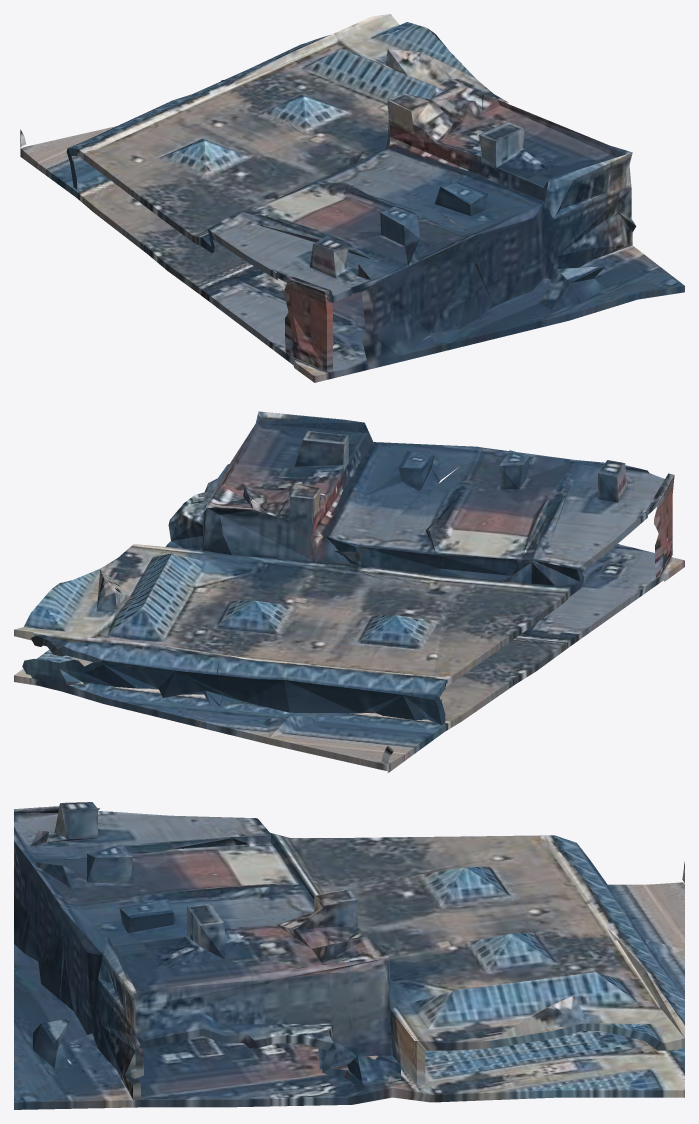
File: chunk_-9_0.glb
The picture shows the model from 3 angles, top to bottom: view 1: azimuth 30°, elevation 25°; view 2: azimuth 150°, elevation 25°; view 3: azimuth 270°, elevation 25°; orthographic projection. The views are drawn at different scales.
Visible parts, largest first — view 1: hero-chunk; view 2: hero-chunk; view 3: hero-chunk.
Boxes of the visible parts, bbox=[...] form: hero-chunk: bbox=[20, 14, 684, 382]; hero-chunk: bbox=[14, 411, 684, 773]; hero-chunk: bbox=[14, 802, 684, 1109].
Size of the model in its own units: 56.35 by 17.66 by 76.33.
2 materials, 2 textured.
